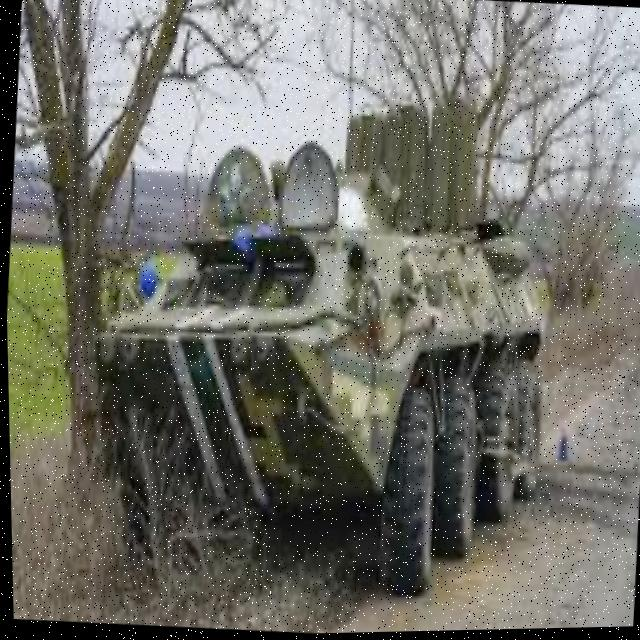MIL_APC: (84, 109, 573, 590)
